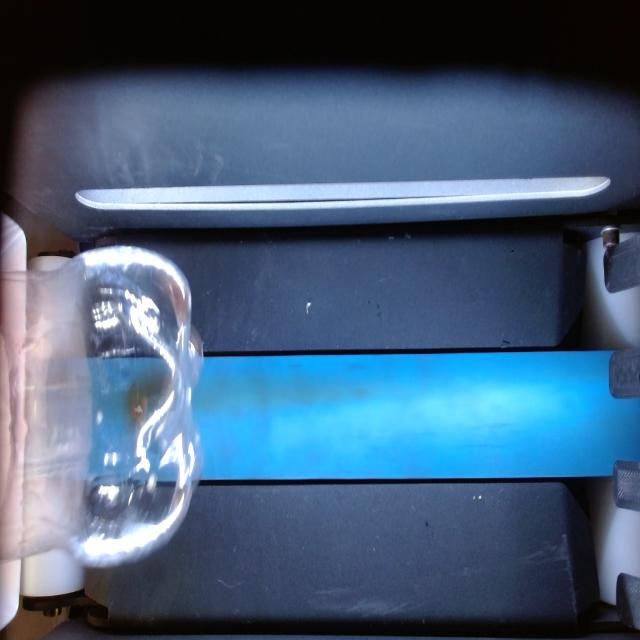bottom: (0, 247, 202, 567)
